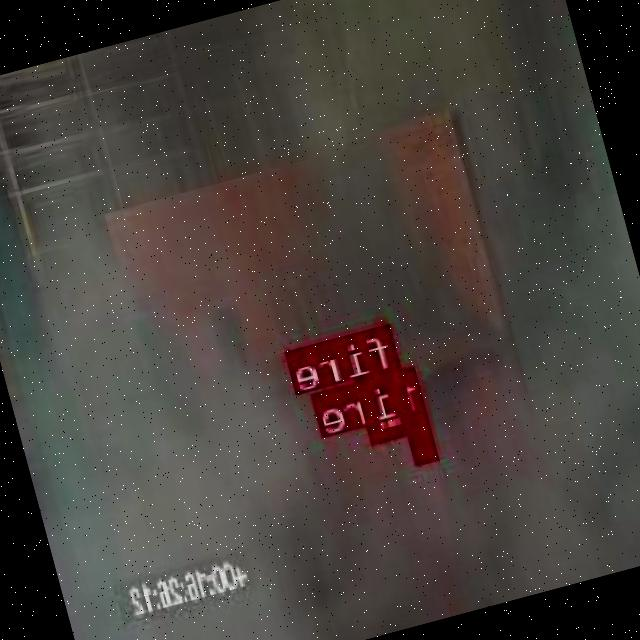fire: (356, 365, 417, 440), (404, 408, 442, 461)
